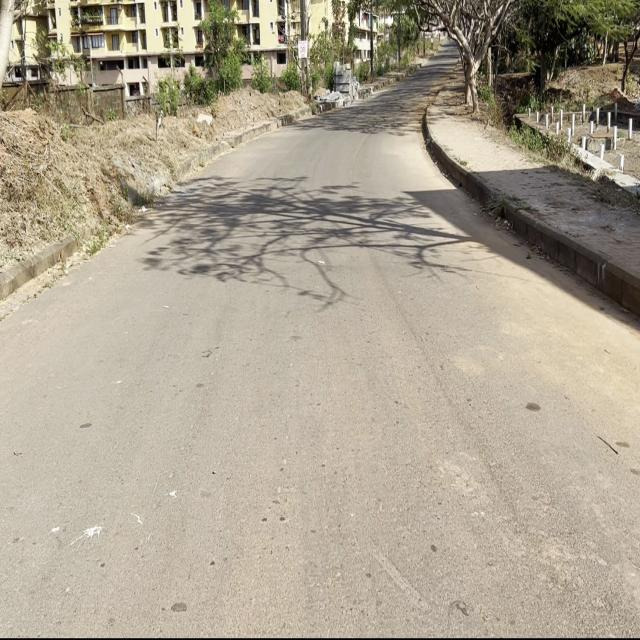Road: (0, 50, 640, 640)
